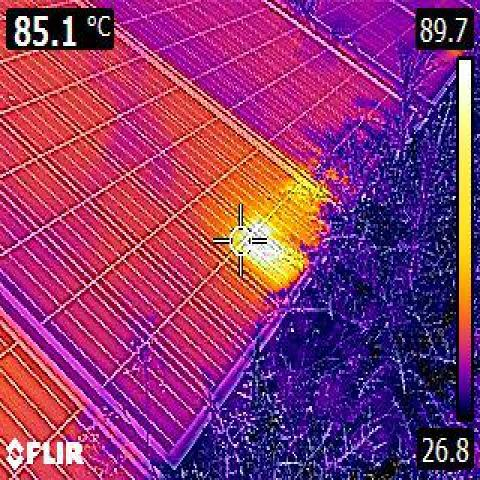fault: (250, 248, 300, 273)
